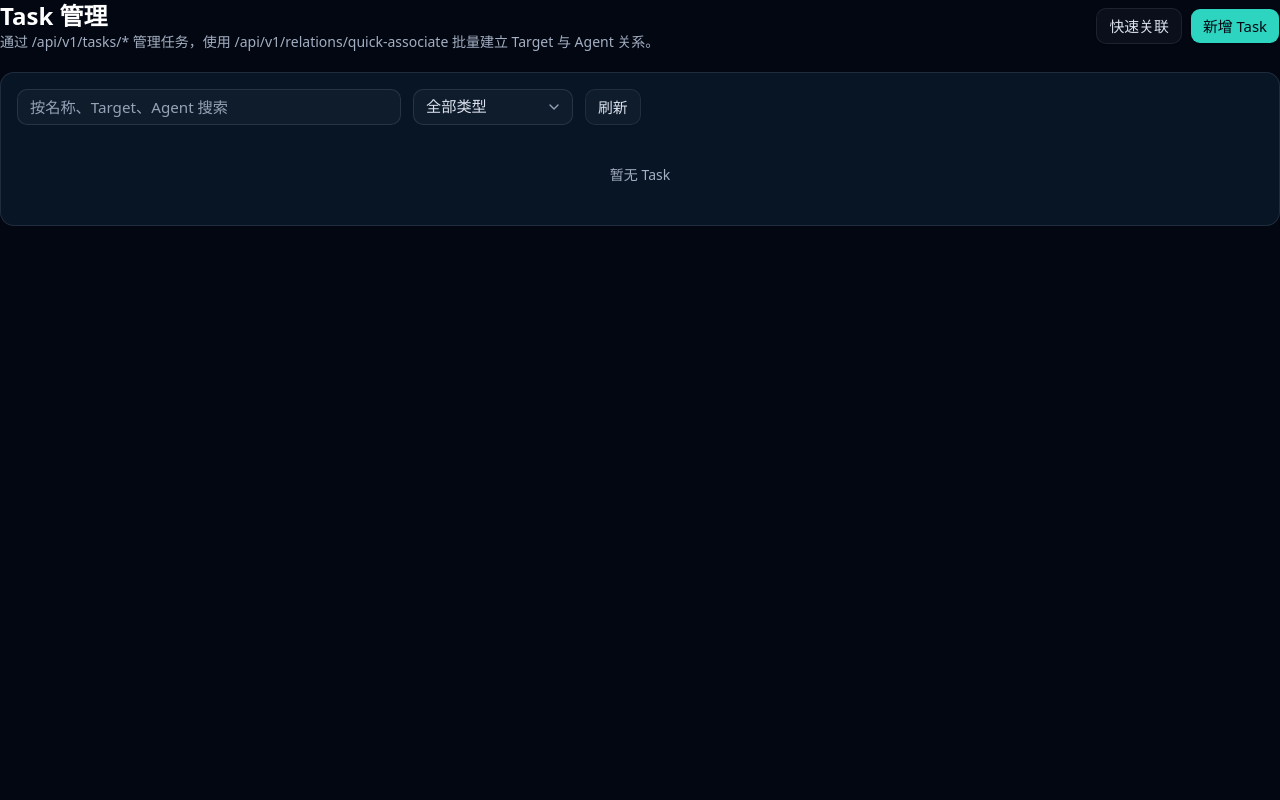
it: TasksPage › offers iperf3 in create protocol choices when the target supports it
Click the button "新增 Task" at (1235, 26), box left=1190, top=8, right=1279, bottom=44
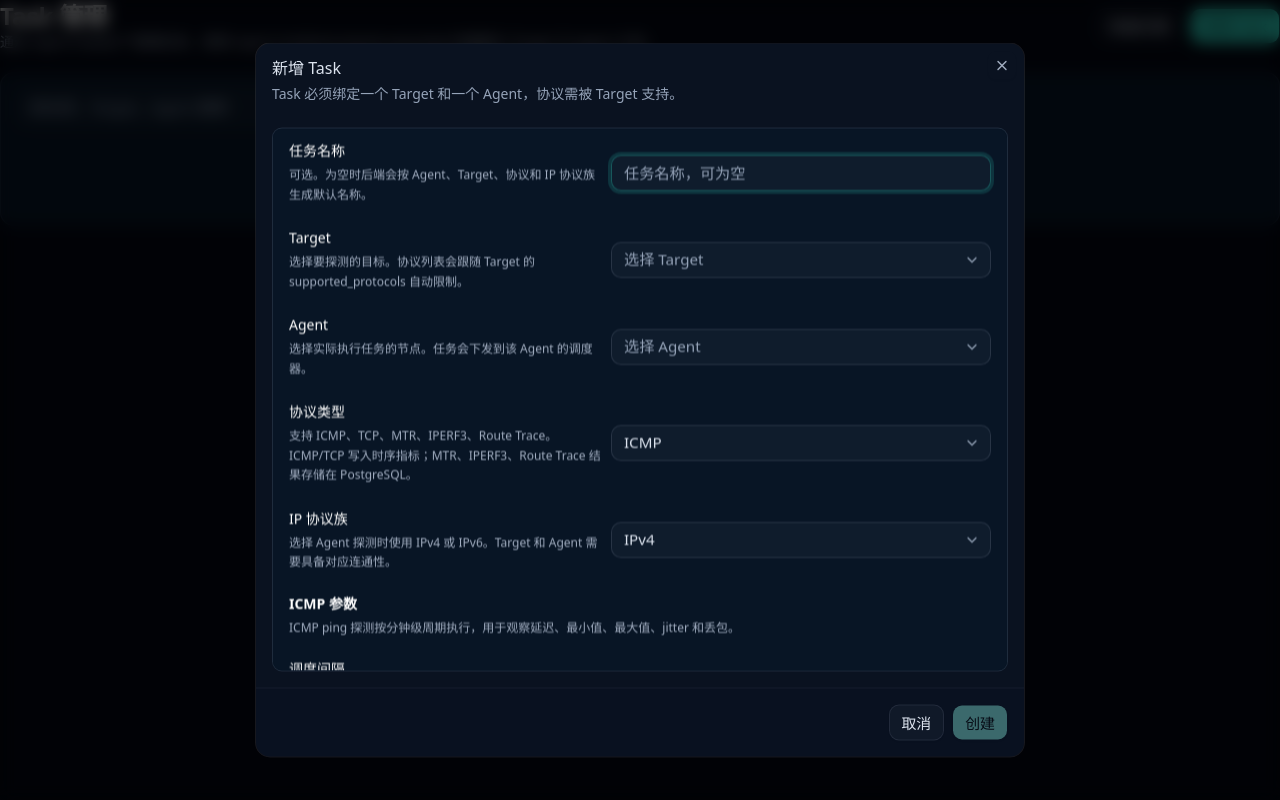
Click the dropdown labelled "Target" at (664, 258), box left=611, top=241, right=991, bottom=277
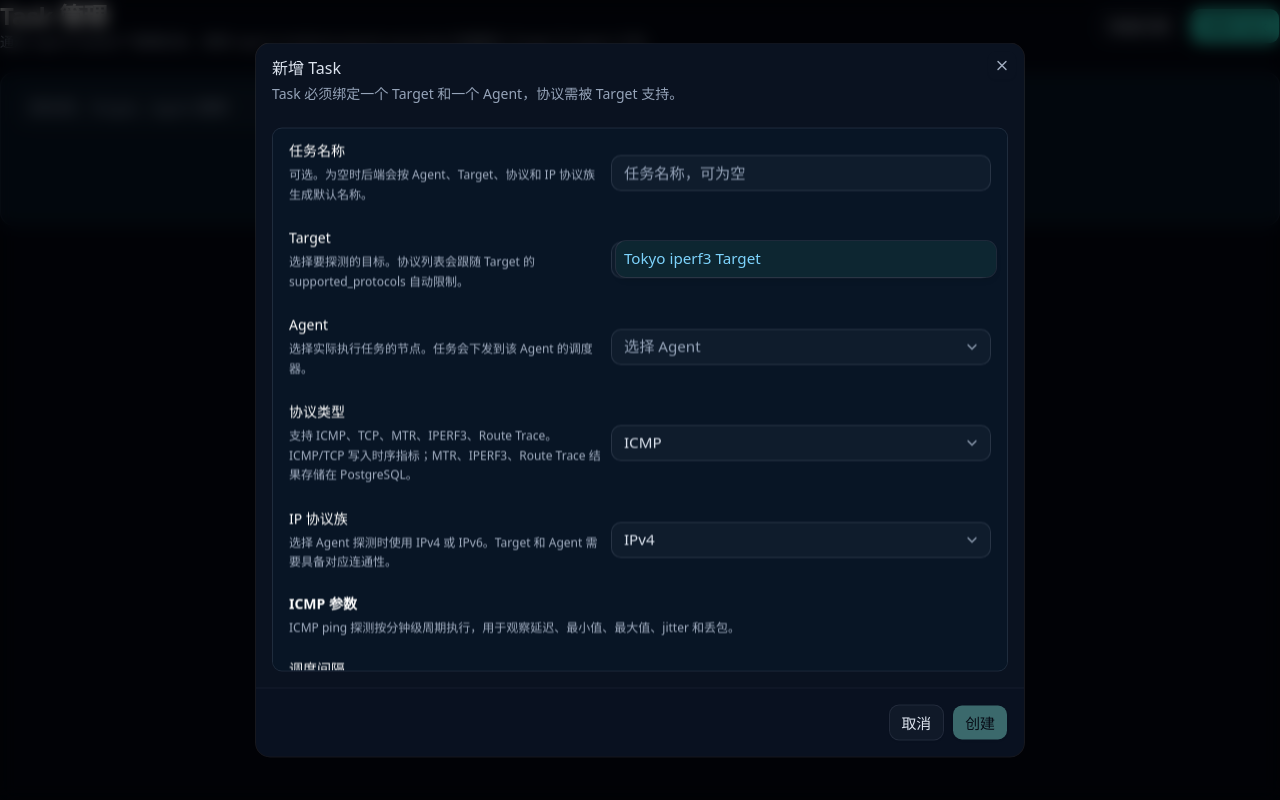
Click the option "Tokyo iperf3 Target" at (692, 258), box left=616, top=241, right=996, bottom=277
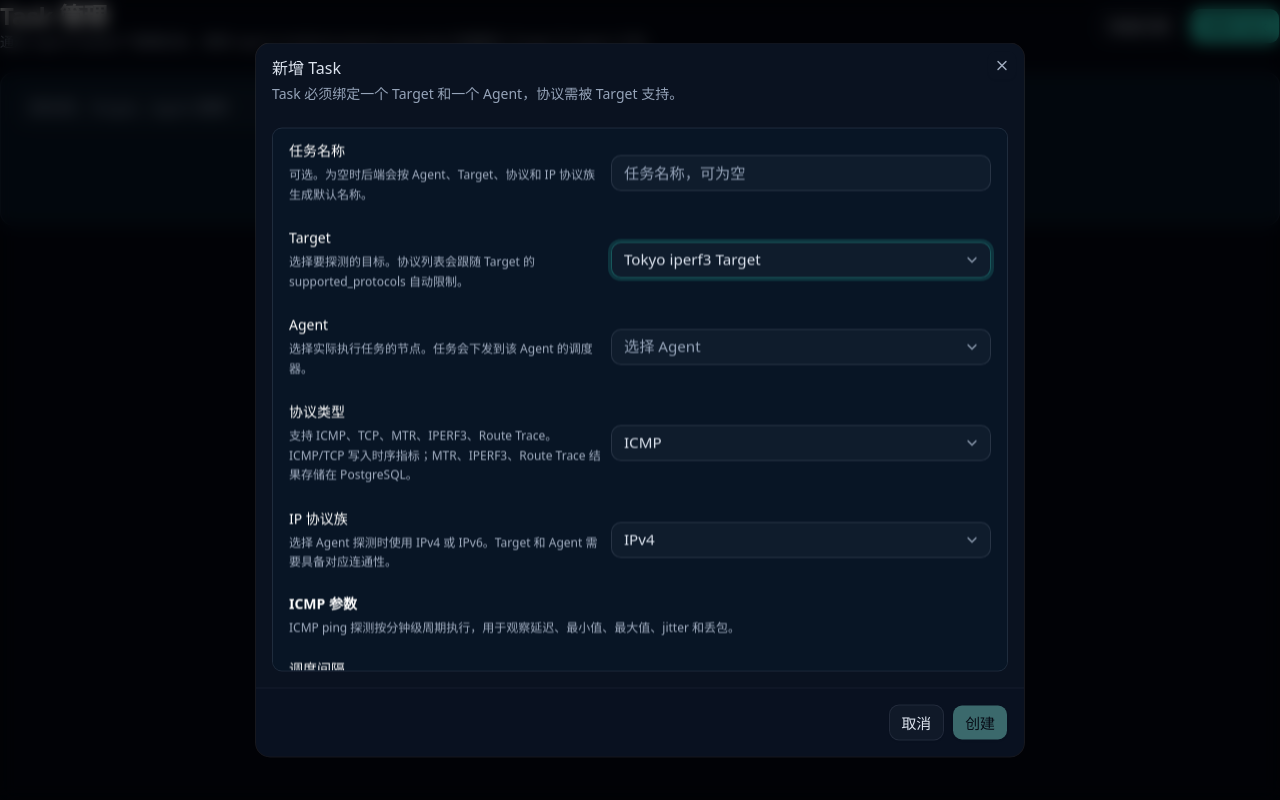
Click the dropdown named "协议类型" at (643, 442), box left=611, top=425, right=991, bottom=461
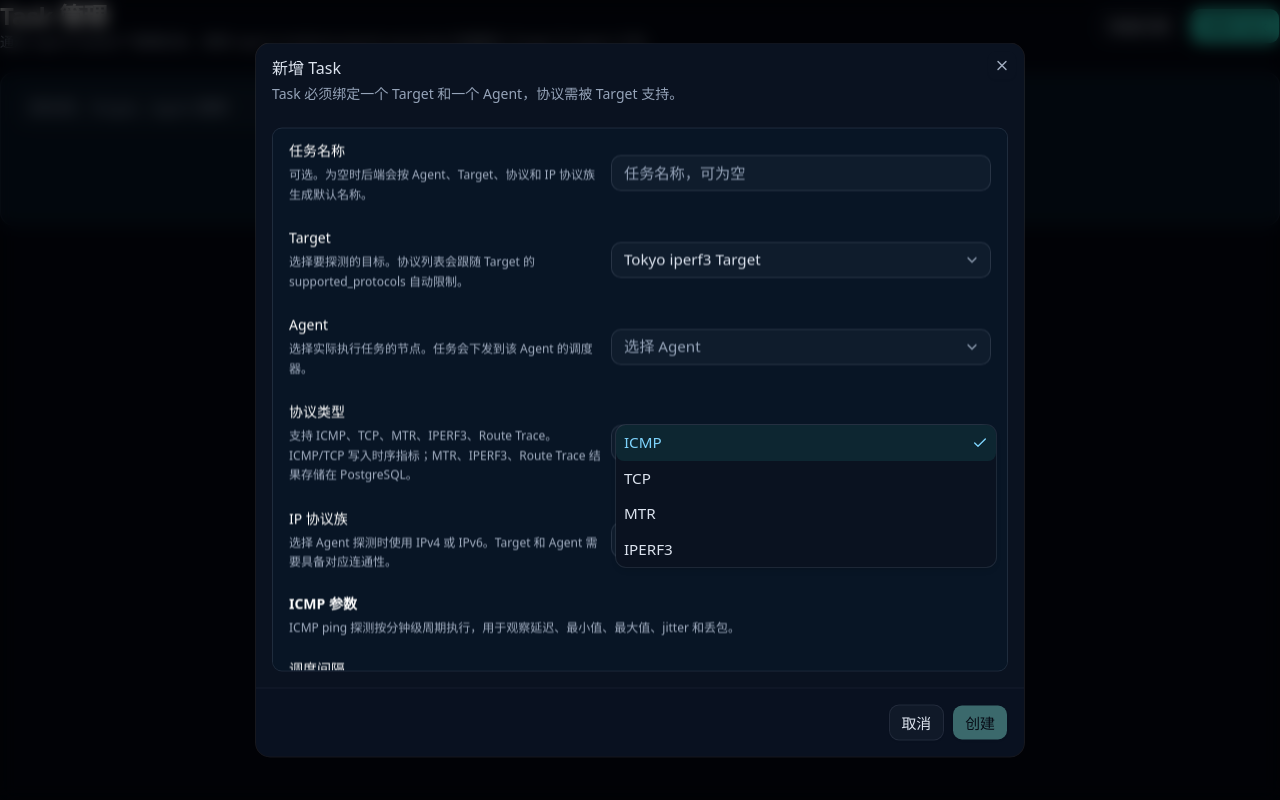
Expected: the option "IPERF3" is shown, left=624, top=539, right=673, bottom=559
